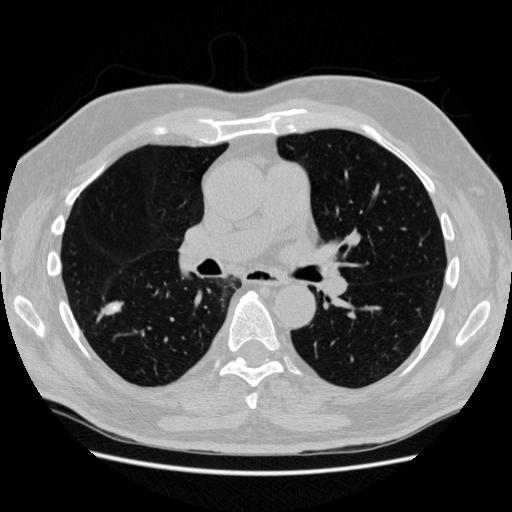nodule: (102, 297, 123, 318)
